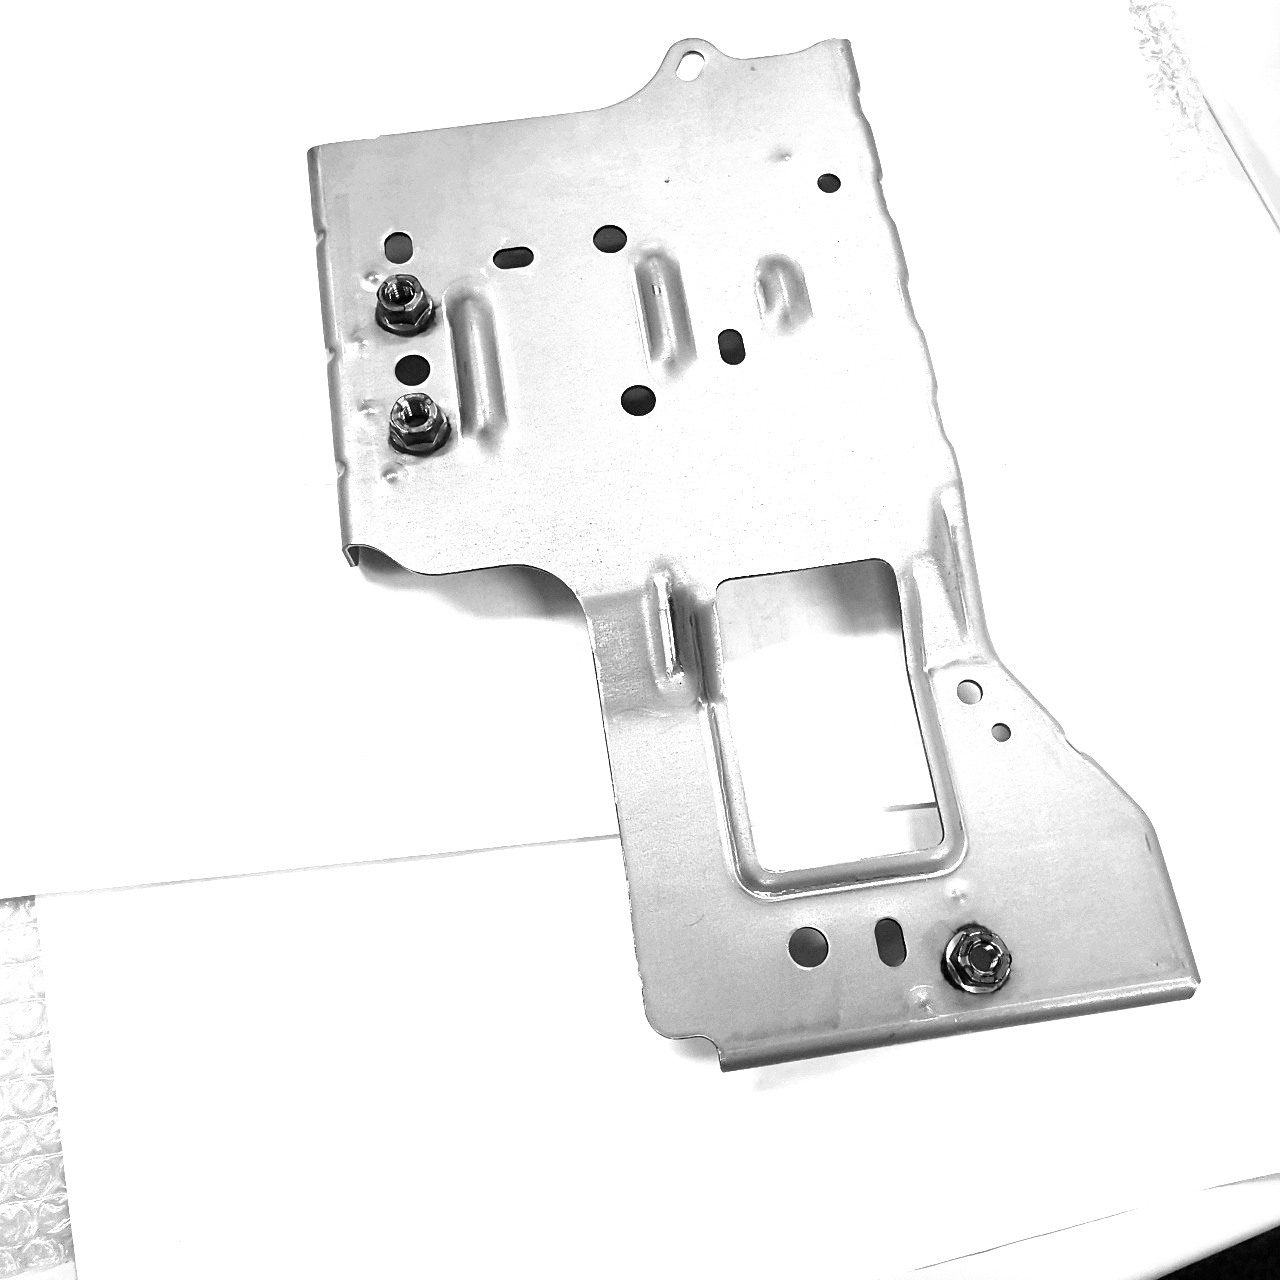dog: (934, 918, 1012, 1005), (386, 388, 454, 459), (370, 270, 438, 340)
